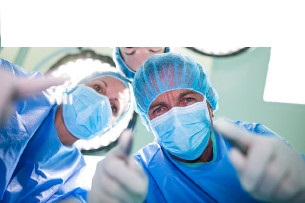face_mask: (147, 80, 212, 161), (60, 70, 121, 141)
